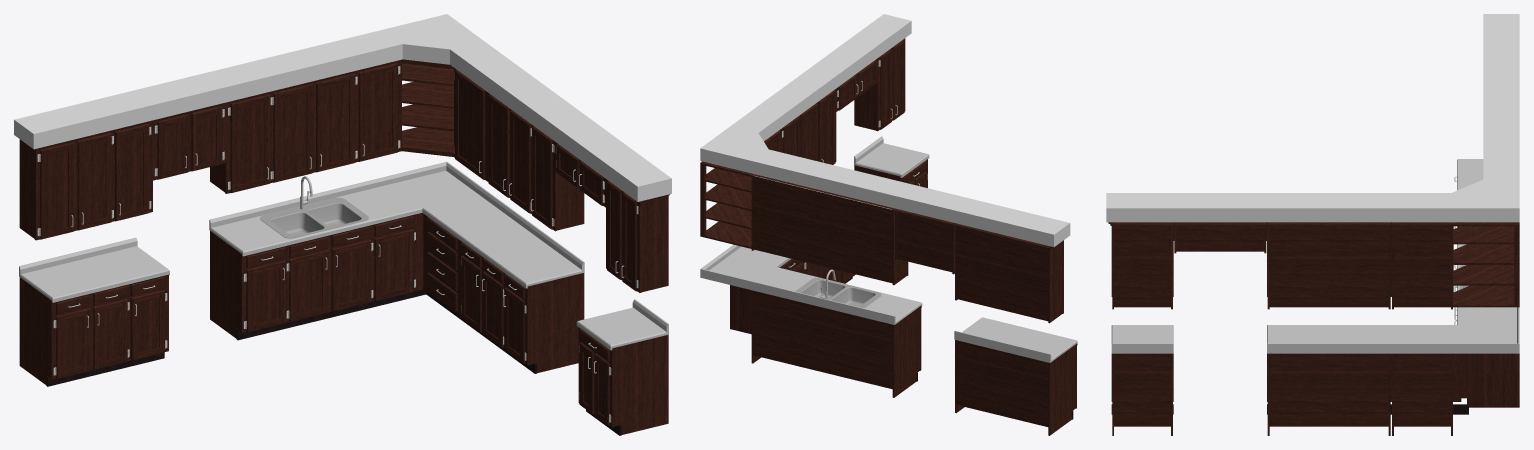
The model's file is KitchenCabs02.dae.
The picture shows the model from 3 angles, left to right: view 1: azimuth 30°, elevation 25°; view 2: azimuth 150°, elevation 25°; view 3: azimuth 270°, elevation 25°; orthographic projection. The views are drawn at different scales.
Visible parts, largest first — view 1: group_15, group_16, group_17, group_13, Component_142 (×2), Component_143 (×2), Component_144 (×2), Component_138 (×3), Component_6, Component_2, Component_156, Component_158 (+31 smaller); view 2: group_15, Component_80, Component_59, Component_78, Component_58, group_17, group_13, Component_79, Component_4, Component_1, group_14, Component_173 (×2) (+15 smaller); view 3: group_15, Component_78, Component_58, group_16, Component_83, Component_82, Component_61, Component_60, Component_3, Component_81, Component_173 (×2), group_17 (+5 smaller).
Part boxes in pixels (box(x1,y1,x2,y2)): group_15: box(14, 14, 671, 201); group_16: box(422, 162, 584, 288); group_17: box(209, 161, 446, 256); group_13: box(19, 237, 169, 302); Component_142 (×2): box(40, 94, 509, 239); Component_143 (×2): box(77, 110, 531, 230); Component_144 (×2): box(115, 123, 552, 229); Component_138 (×3): box(130, 271, 525, 363); Component_6: box(614, 334, 668, 434); Component_2: box(529, 273, 584, 373); Component_156: box(273, 84, 312, 182); Component_158: box(358, 63, 397, 161); group_15: box(700, 14, 1070, 246); Component_80: box(753, 176, 892, 283); Component_59: box(753, 290, 892, 389); Component_78: box(956, 225, 1048, 321); Component_58: box(956, 340, 1048, 426); group_17: box(700, 266, 922, 324); group_13: box(954, 317, 1077, 362); Component_79: box(896, 210, 952, 272); Component_4: box(892, 307, 919, 397); Component_1: box(1048, 344, 1075, 435); group_14: box(854, 136, 929, 177); Component_173 (×2): box(700, 168, 751, 210); group_15: box(1106, 14, 1519, 222); Component_78: box(1269, 224, 1388, 307); Component_58: box(1269, 353, 1388, 426); group_16: box(1267, 325, 1519, 353); Component_83: box(1394, 224, 1450, 307); Component_82: box(1114, 224, 1170, 307); Component_61: box(1394, 353, 1450, 426); Component_60: box(1114, 353, 1170, 426); Component_3: box(1461, 353, 1519, 407); Component_81: box(1176, 224, 1264, 251); Component_173 (×2): box(1453, 226, 1519, 264); group_17: box(1457, 244, 1519, 343).
Bounding box in the file's own units: 178 × 160 × 96.94.
